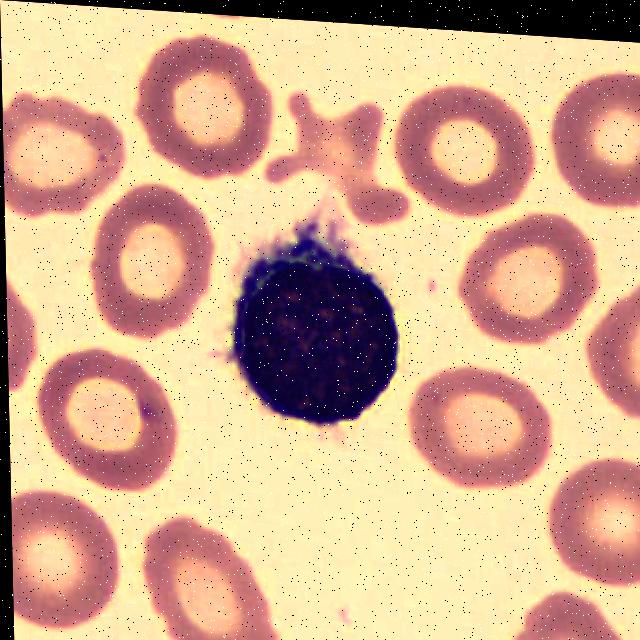lymphocyte: (214, 235, 424, 433)
rbc: (37, 345, 178, 493), (261, 79, 405, 222), (136, 38, 268, 181), (458, 212, 597, 346), (94, 184, 214, 337), (413, 366, 561, 487), (2, 89, 125, 232), (395, 87, 534, 209), (142, 520, 269, 640), (11, 500, 124, 631), (552, 59, 640, 215), (550, 456, 640, 583), (577, 284, 640, 422), (504, 591, 633, 640), (5, 246, 35, 418)
